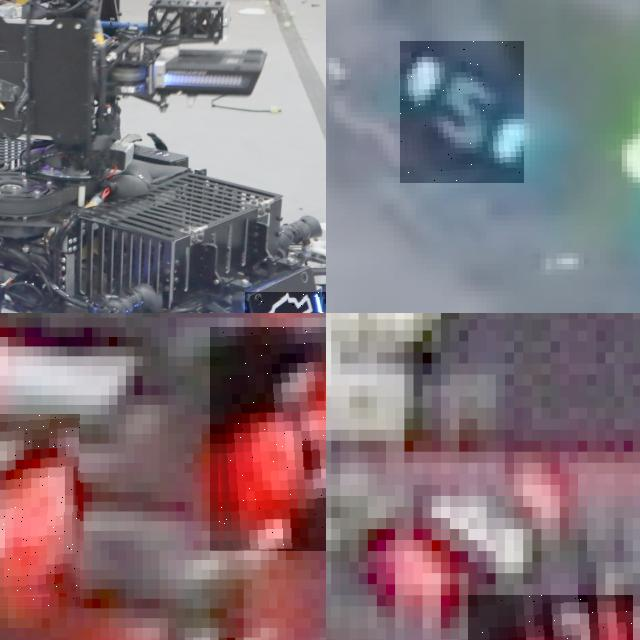B5: (400, 41, 524, 183)
Bs: (244, 292, 326, 313)
R3: (468, 595, 632, 640)
R5: (210, 327, 326, 550), (0, 414, 79, 608)
